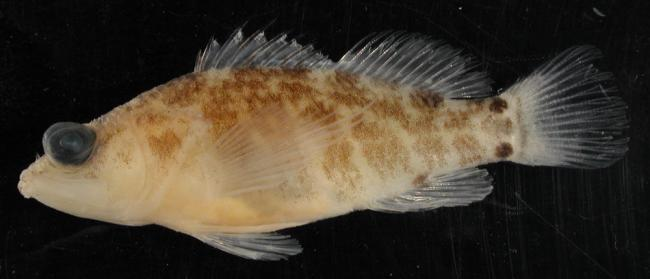fish: (16, 23, 630, 262)
